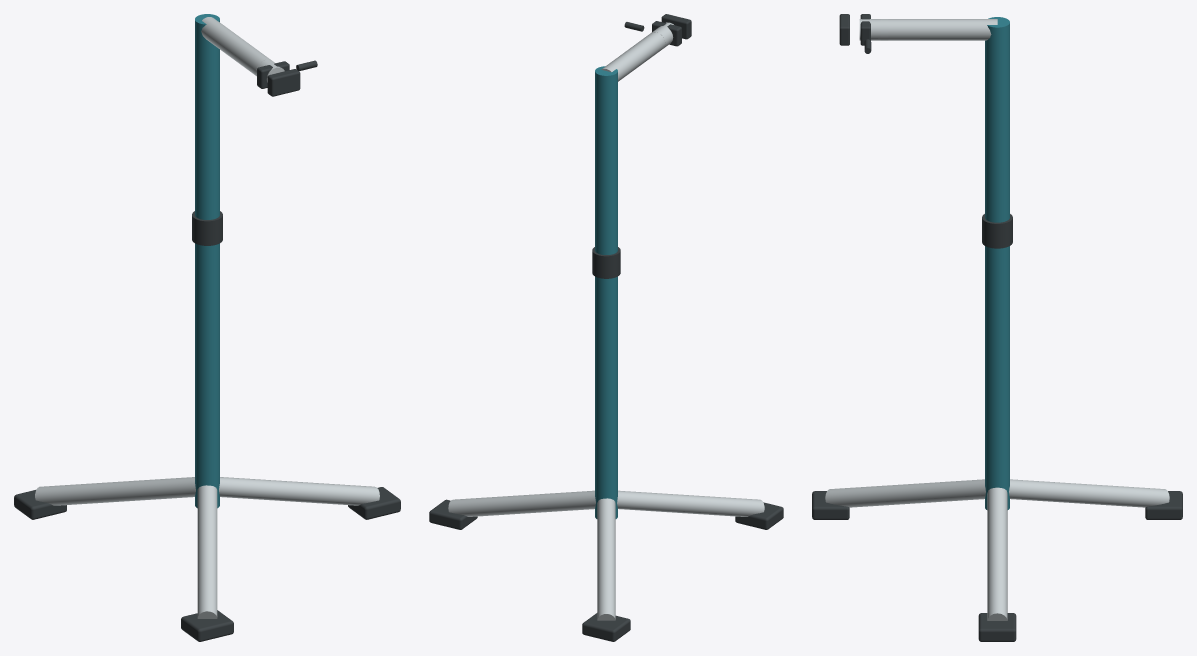
File: bicycle-shop-and-repair-cafe-repair-workstand-986907af.glb
3 views of the same model, side by side, from view 1: azimuth 30°, elevation 25°; view 2: azimuth 150°, elevation 25°; view 3: azimuth 270°, elevation 25° (orthographic). The views are drawn at different scales.
Visible parts, largest first — view 1: repair-workstand; view 2: repair-workstand; view 3: repair-workstand.
Part boxes in pixels (x1,y1,x2,y2): repair-workstand: (14, 14, 400, 641); repair-workstand: (429, 14, 783, 641); repair-workstand: (812, 14, 1182, 641).
Size of the model in its own units: 0.7901 by 1.41 by 0.8868.
